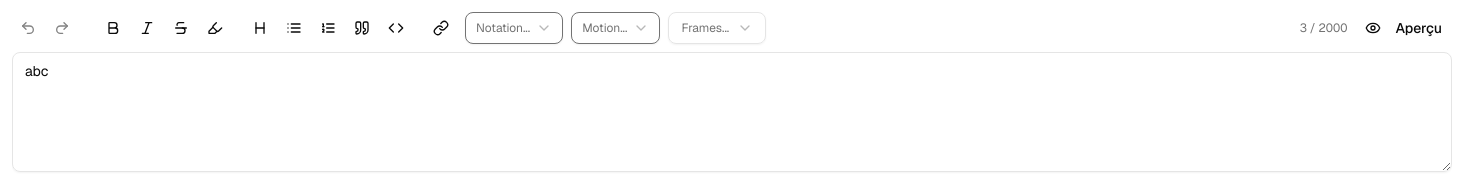
Test case: RichMarkdownEditor › wraps the current selection when clicking bold
Click the button named "Gras" at (113, 28), box [97,12,129,44]
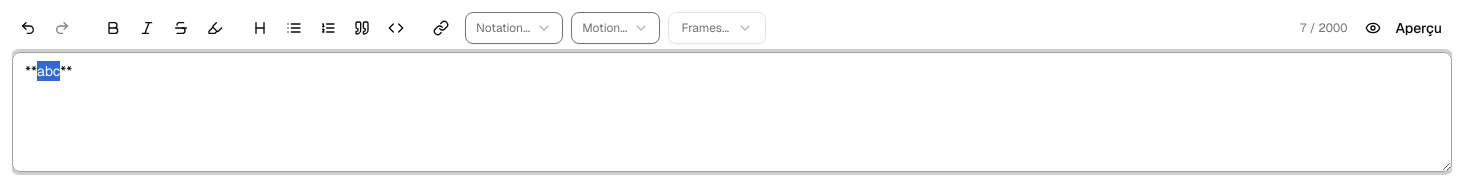
Check: the text box named "Note" holds "**abc**"
